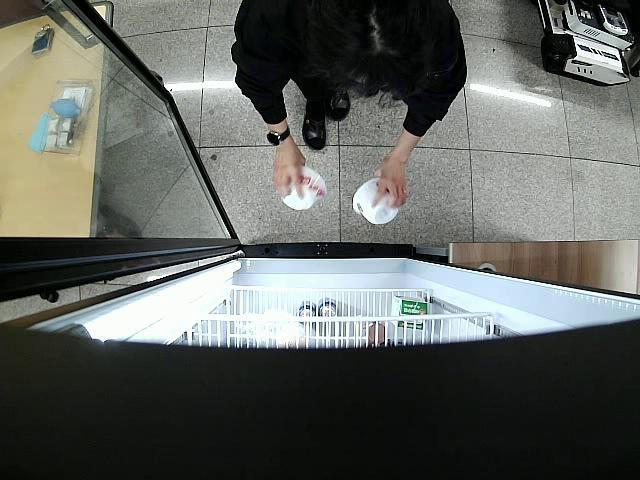09_yukGaeJang: (352, 177, 400, 224), (282, 167, 328, 214)
